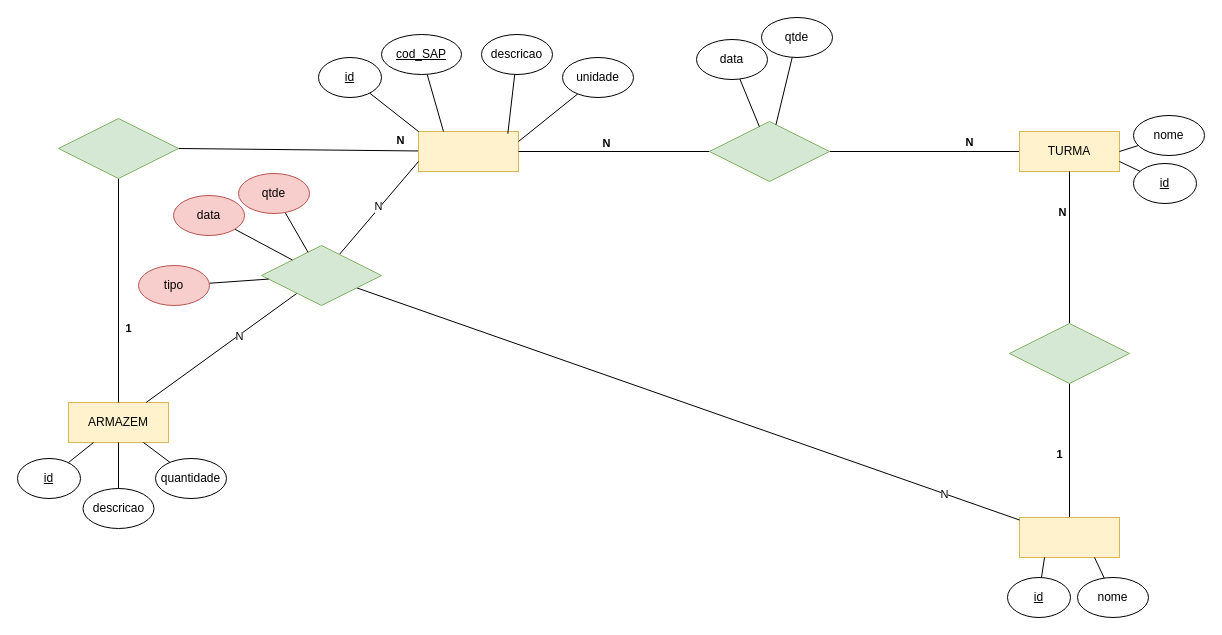
Image size: 1222x635. Some labels were removed from this diagram. Each missing label, with the box of its shape:
Esta: (58, 118, 178, 178)
MATERIAL: (418, 130, 518, 172)
movimenta: (260, 244, 382, 306)
PROFESSOR: (1018, 516, 1120, 558)
Tem: (1008, 322, 1130, 384)
Utiliza: (708, 120, 830, 182)
